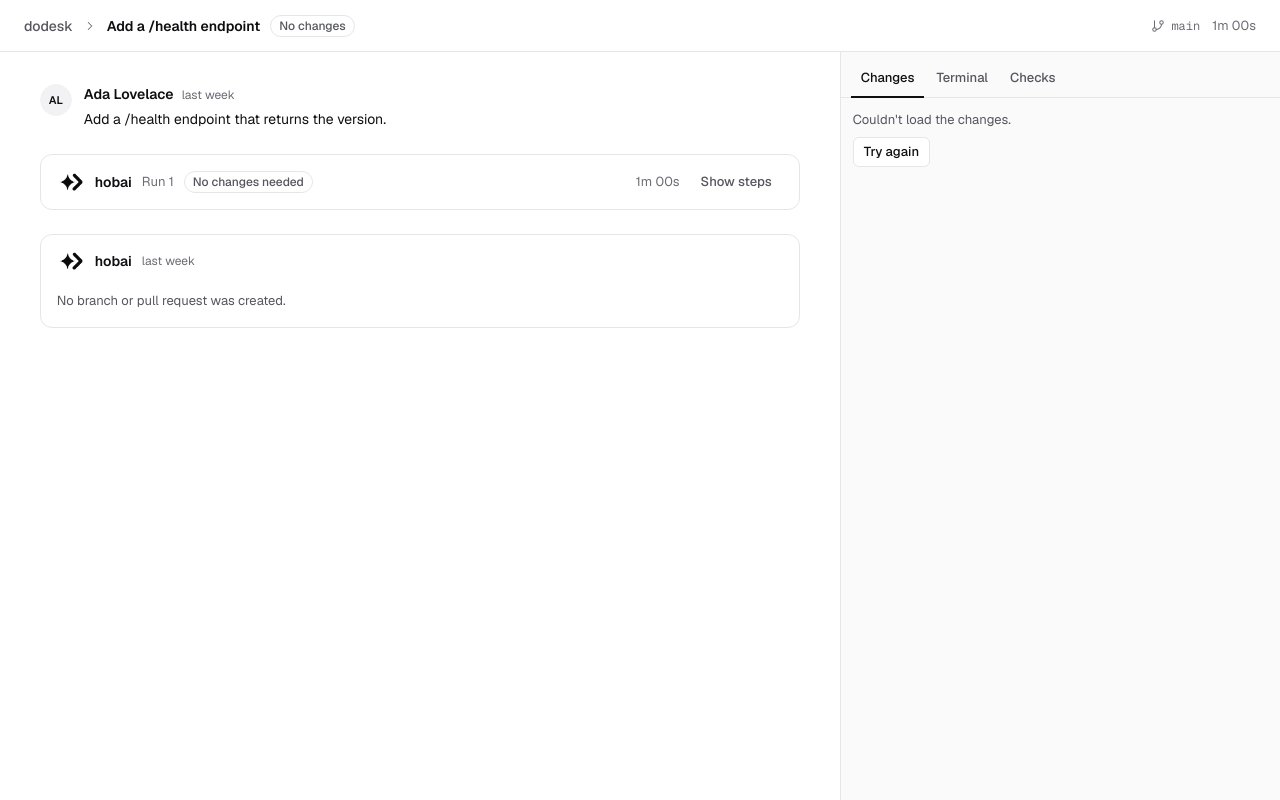
Test case: TaskScreen › folds the steps of a run that ended before you opened it
Expected: the element "Run 1" shows "No changes needed", [193,174,304,190]
Expected: the element "Prepare" is not shown
Click the button "Show steps": {"x": 736, "y": 182} [690,167,783,197]
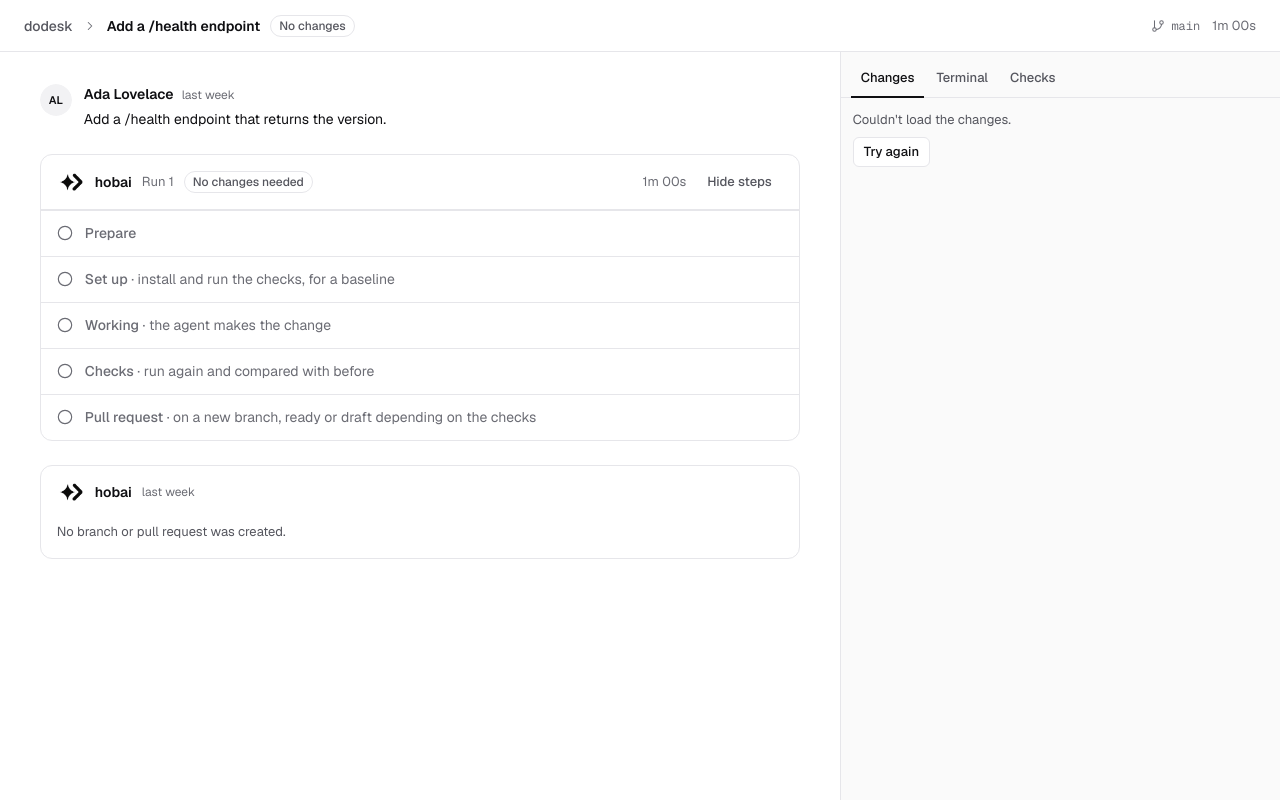
Now the element "Prepare" is shown, box [41,210,799,256]
